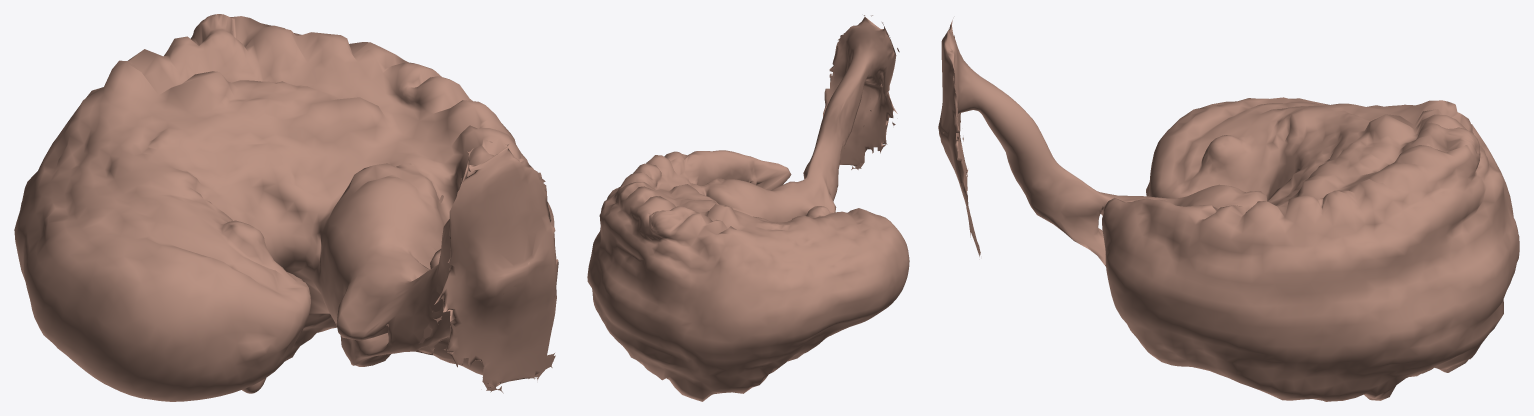
The model's file is semana18.glb.
3 views of the same model, side by side, from view 1: azimuth 30°, elevation 25°; view 2: azimuth 150°, elevation 25°; view 3: azimuth 270°, elevation 25° (orthographic). The views are drawn at different scales.
Parts seen in each view (by area): view 1: Mesh1; view 2: Mesh1; view 3: Mesh1.
Part boxes in pixels (x1,y1,x2,y2): Mesh1: (14,14,558,401); Mesh1: (587,15,909,401); Mesh1: (938,20,1519,401).
Size of the model in its own units: 1.51 by 1.31 by 1.99.
